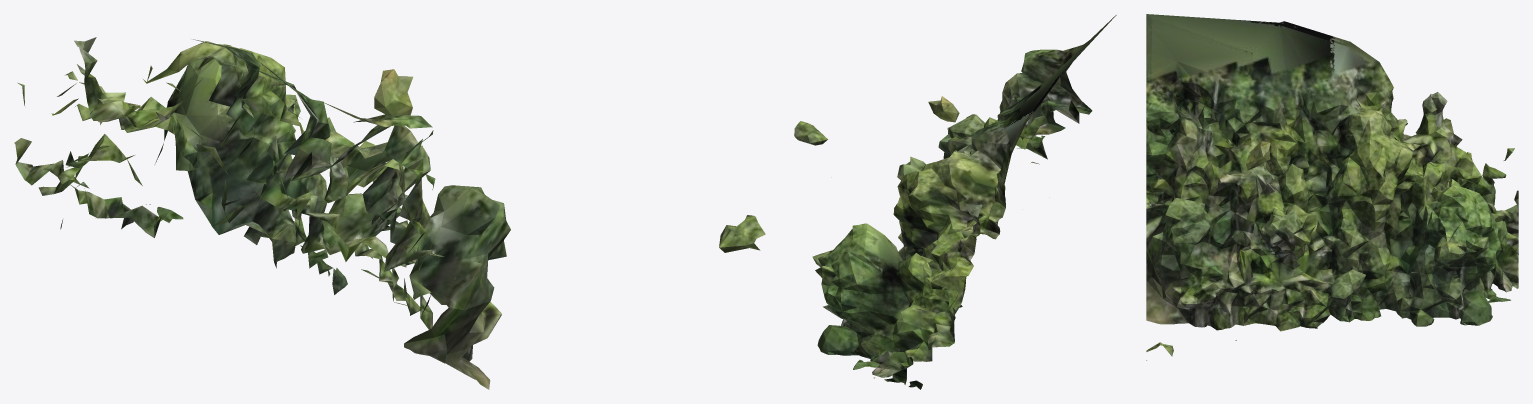
3 views of the same model, side by side, from view 1: azimuth 30°, elevation 25°; view 2: azimuth 150°, elevation 25°; view 3: azimuth 270°, elevation 25° (orthographic). The views are drawn at different scales.
Bounding box in the file's own units: 52.22 × 37.97 × 52.22.
Materials: 4 (4 with a texture image).
